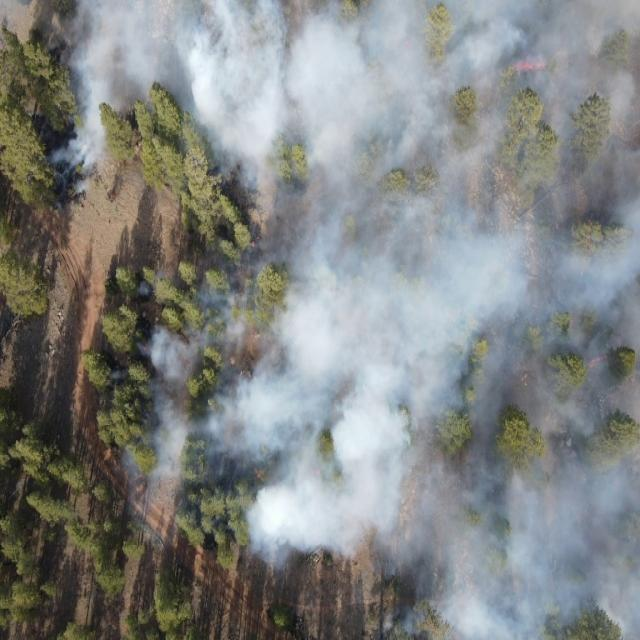fire: (511, 56, 548, 78), (586, 352, 611, 373), (251, 465, 266, 486), (250, 240, 258, 248)
smoke: (385, 0, 640, 640), (231, 0, 384, 568), (138, 264, 232, 500), (49, 0, 230, 115), (46, 114, 110, 202), (188, 114, 230, 194), (113, 446, 138, 510), (104, 363, 132, 386)
